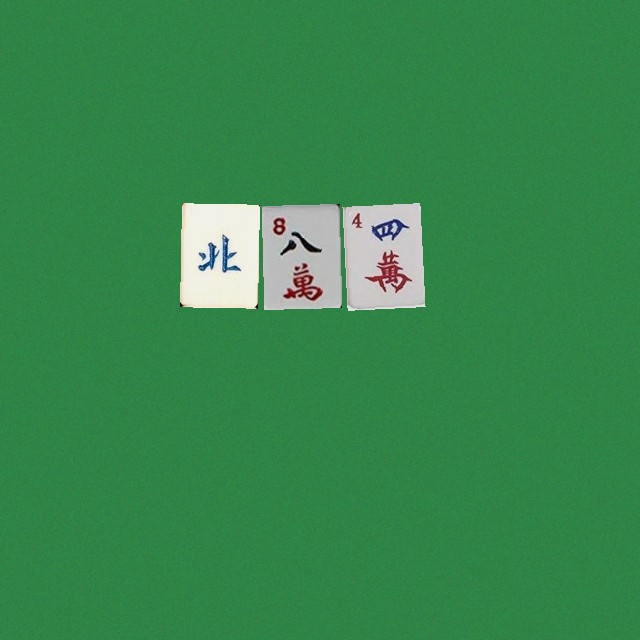tile: (180, 203, 258, 307), (261, 203, 339, 307), (342, 203, 420, 307)
